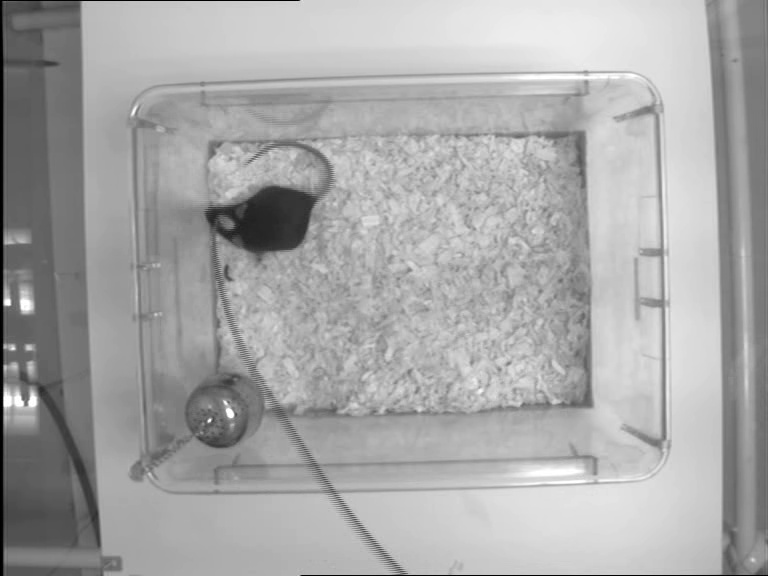mice: (206, 138, 333, 255)
